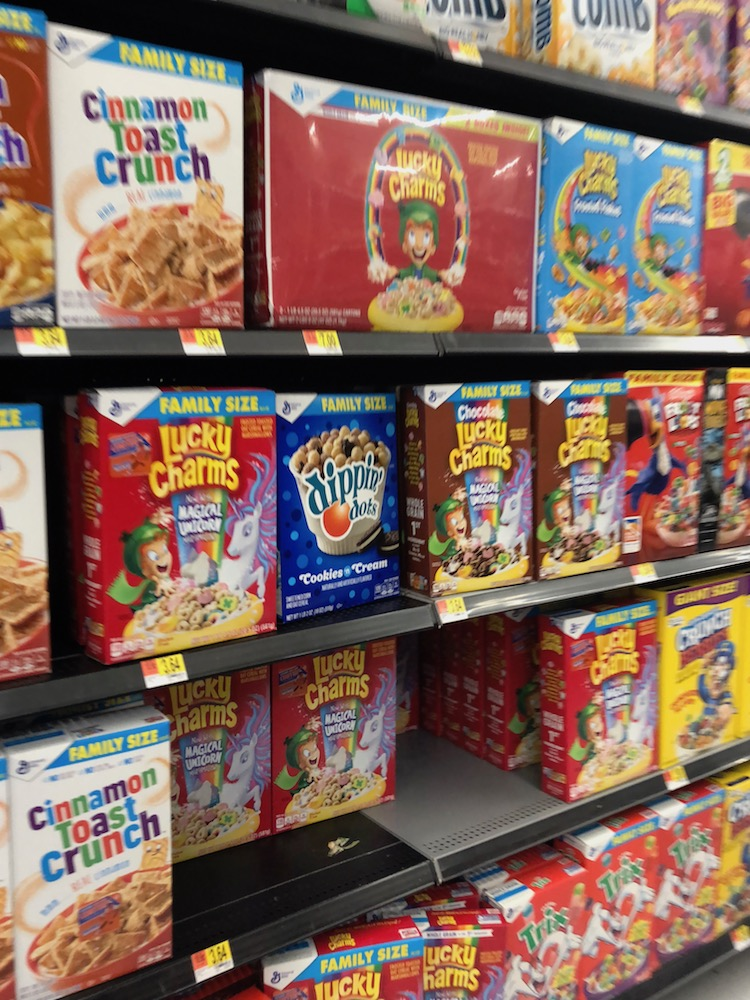Dippin Dots Cookies & Cream -568929378: (280, 404, 412, 611)
